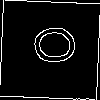O: (24, 24, 76, 65)
